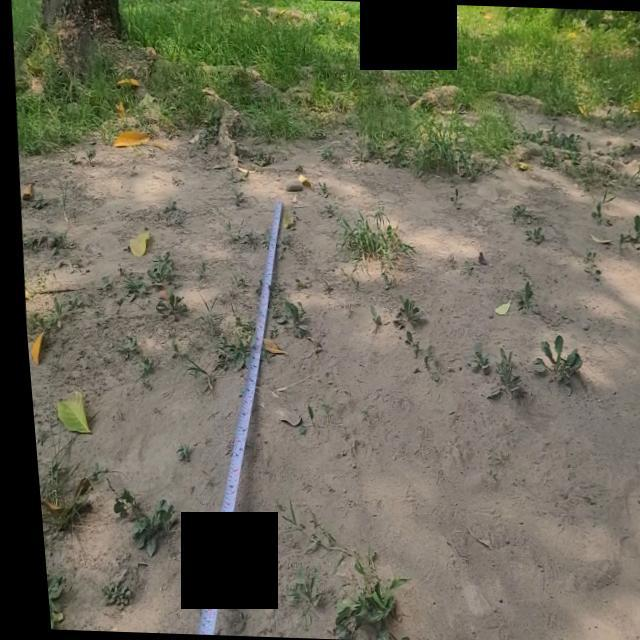Tree: (11, 1, 161, 96)
